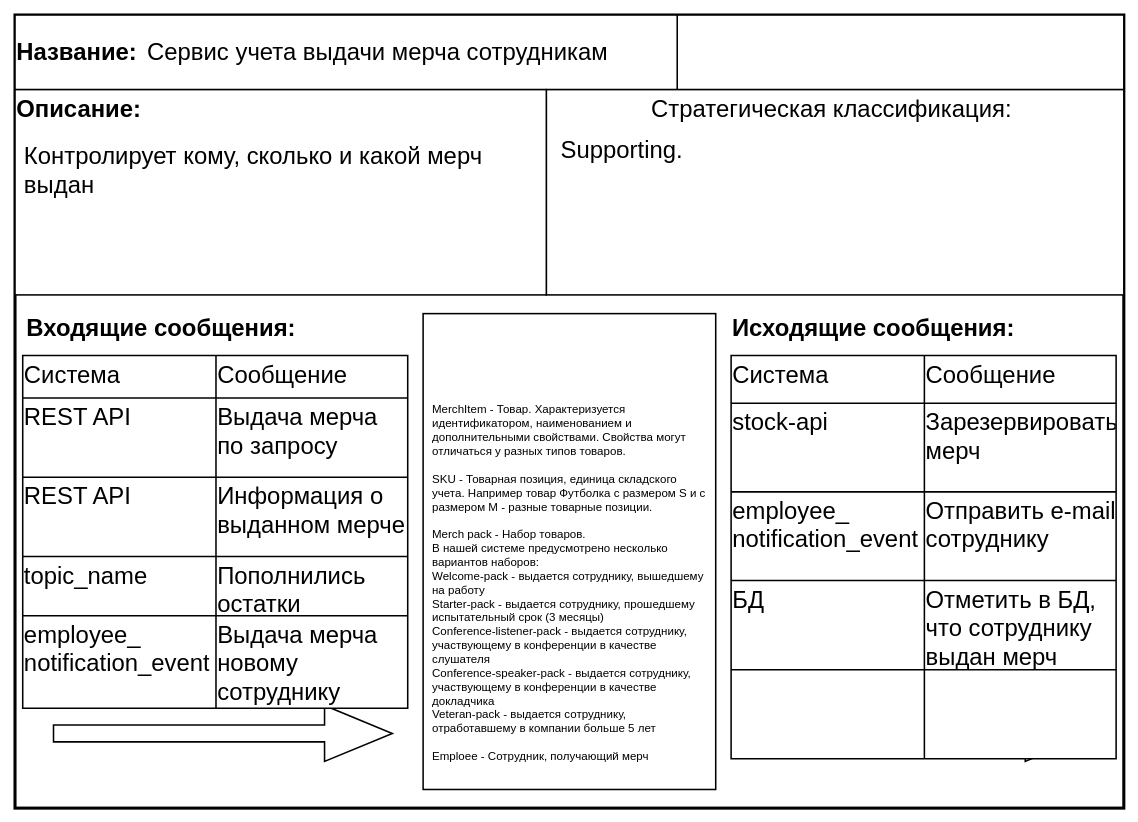
Some shapes in this 1138 by 822 pixel diagram are drawn without their labels. The box of each missing label's shape, as (x1, y1, x2, y2) in pixels:
Bouneded context canvas: (676, 14, 1124, 90)
Ubiquitous Language специфическая доменная терминология: (422, 312, 716, 790)
